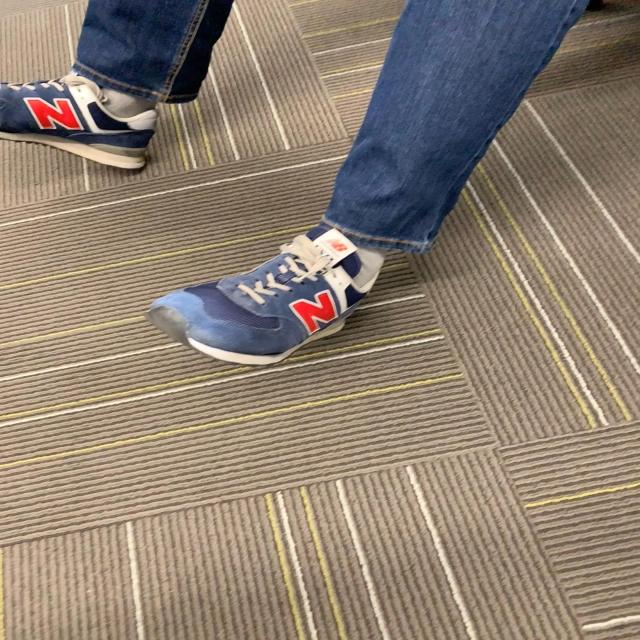shoe: (148, 222, 386, 368), (0, 77, 157, 174)
